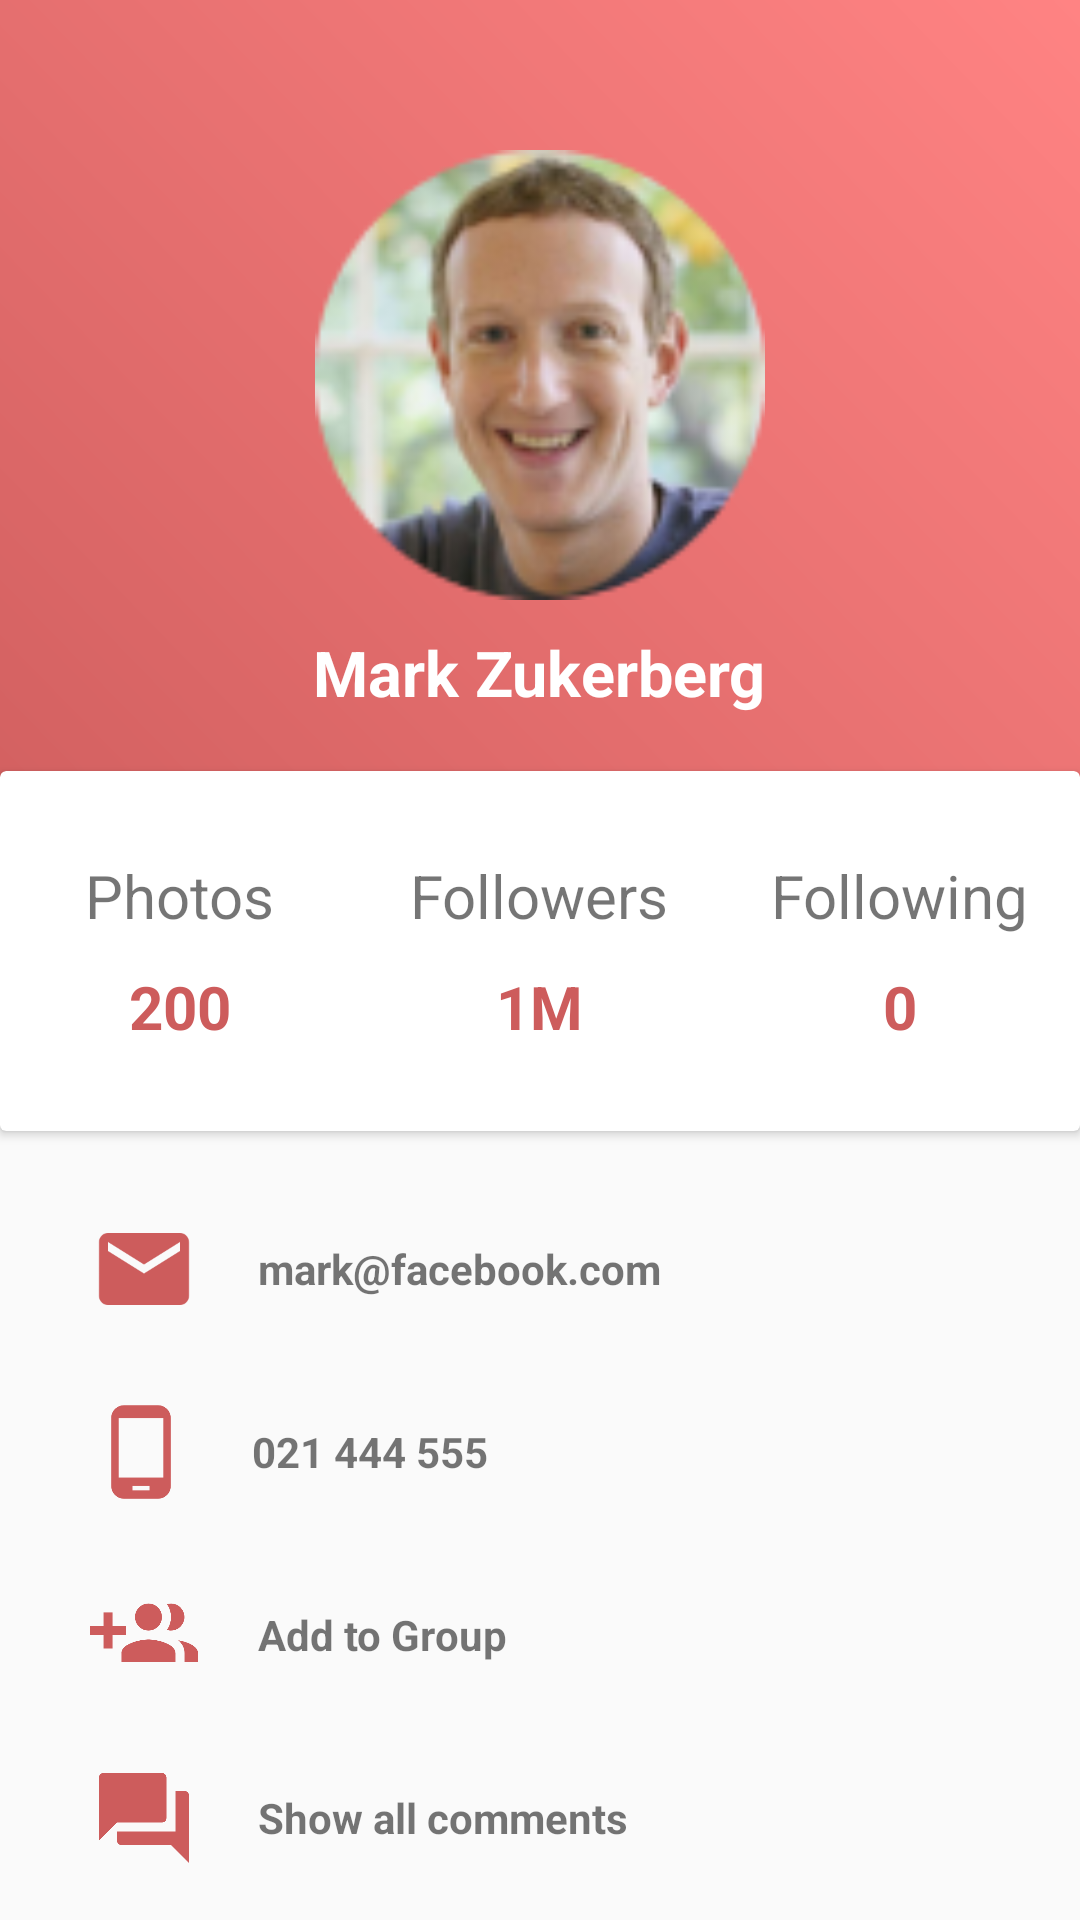

Icon click points for this 1080 × 1920 phone screenshot, format (x=x, y=y):
email: (x=144, y=1269)
forum: (x=144, y=1818)
phone android: (x=141, y=1452)
